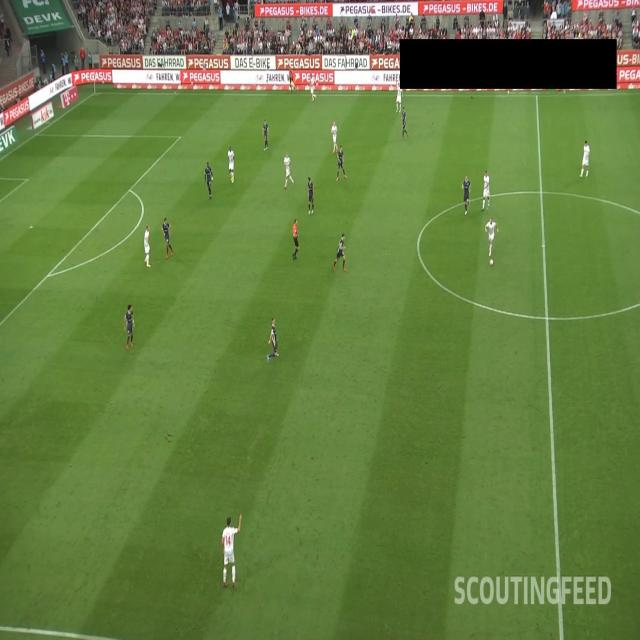ball: (489, 258, 494, 267)
